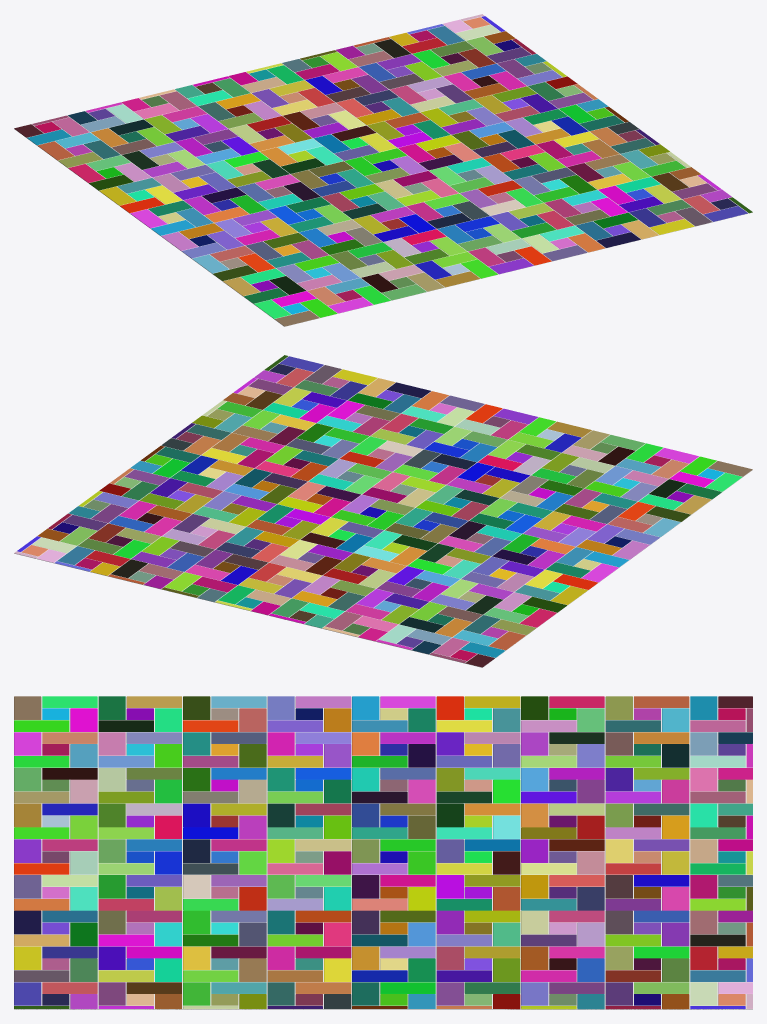
File: generic_floor04.fbx
3 renders of one model, top to bottom at view 1: azimuth 30°, elevation 25°; view 2: azimuth 150°, elevation 25°; view 3: azimuth 270°, elevation 25°, orthographic. The views are drawn at different scales.
Parts seen in each view (by area): view 1: Floor; view 2: Floor; view 3: Floor.
Part boxes in pixels (<box>): Floor: <box>14,14,752,326</box>; Floor: <box>14,355,752,667</box>; Floor: <box>14,696,752,1009</box>.
Bounding box in the file's own units: 400 × 400 × 0.5.
